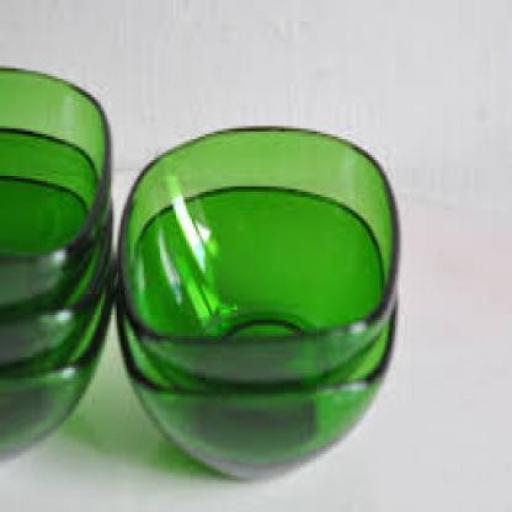glass: (117, 123, 397, 387), (111, 273, 394, 470), (0, 174, 111, 459), (0, 63, 110, 310), (0, 120, 101, 360)
